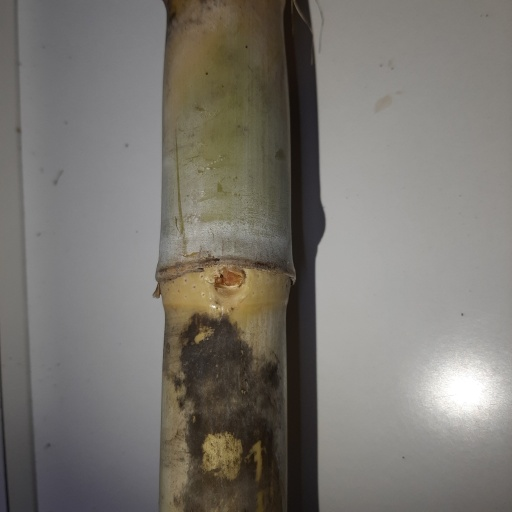Damage_Bud: (211, 266, 244, 300)
